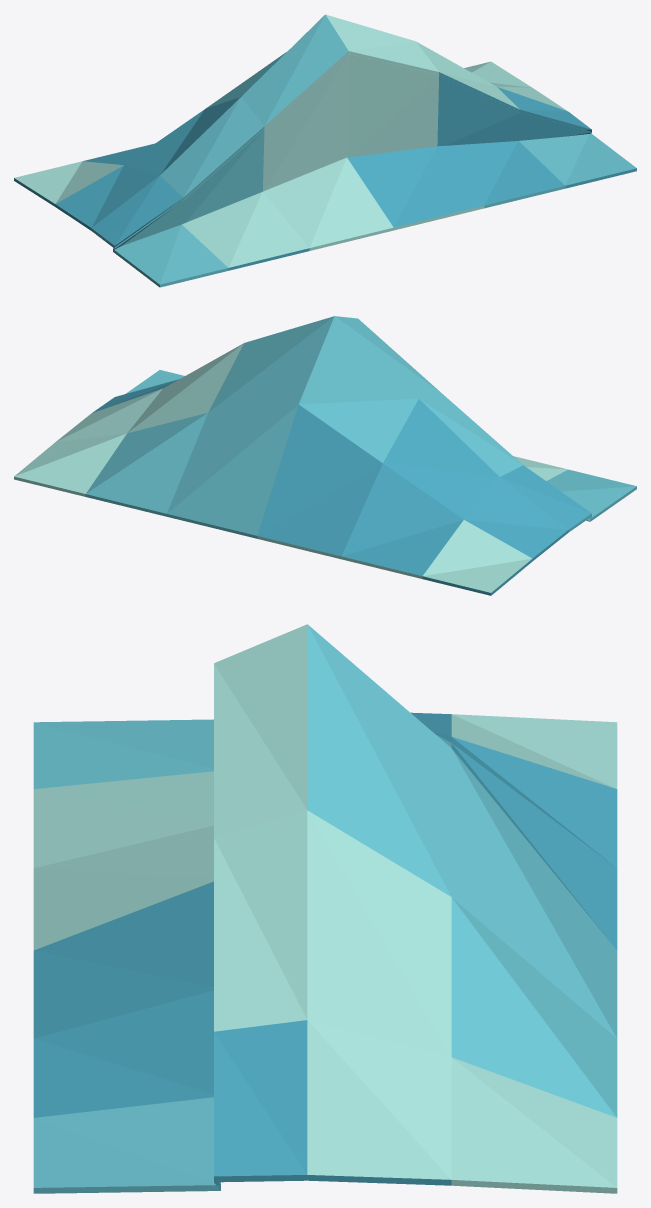
3 renders of one model, top to bottom at view 1: azimuth 30°, elevation 25°; view 2: azimuth 150°, elevation 25°; view 3: azimuth 270°, elevation 25°, orthographic. The views are drawn at different scales.
Visible parts, largest first — view 1: 主浪.001; view 2: 主浪.001; view 3: 主浪.001.
Boxes of the visible parts, left/top/right/bottom form: 主浪.001: left=14, top=14, right=636, bottom=287; 主浪.001: left=14, top=316, right=636, bottom=595; 主浪.001: left=33, top=624, right=617, bottom=1193.
Bounding box in the file's own units: 1.22 × 0.4072 × 0.648.
